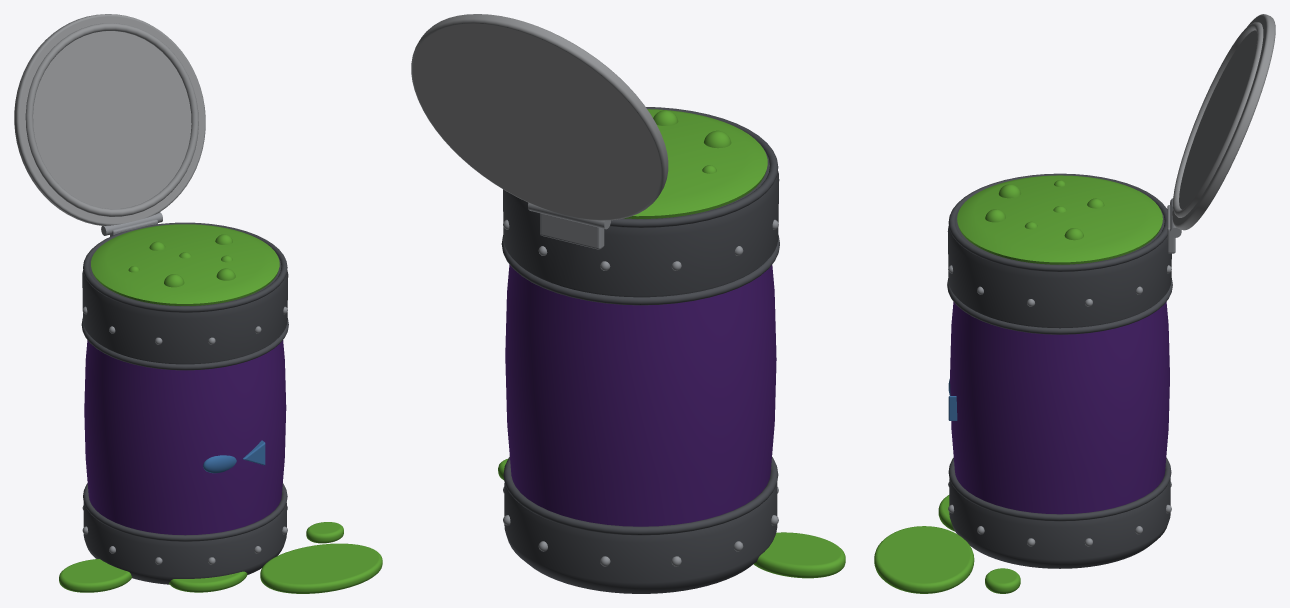
Rendered from gen_toxic_can_vertex.glb.
3 renders of one model, left to right at view 1: azimuth 30°, elevation 25°; view 2: azimuth 150°, elevation 25°; view 3: azimuth 270°, elevation 25°, orthographic. The views are drawn at different scales.
Parts seen in each view (by area): view 1: gen_toxic_can_vertex; view 2: gen_toxic_can_vertex; view 3: gen_toxic_can_vertex.
Part boxes in pixels (box(x1,y1,x2,y2)): gen_toxic_can_vertex: box(14, 14, 382, 593); gen_toxic_can_vertex: box(411, 14, 845, 593); gen_toxic_can_vertex: box(874, 14, 1275, 593).
Size of the model in its own units: 0.47 by 0.7722 by 0.5619.
